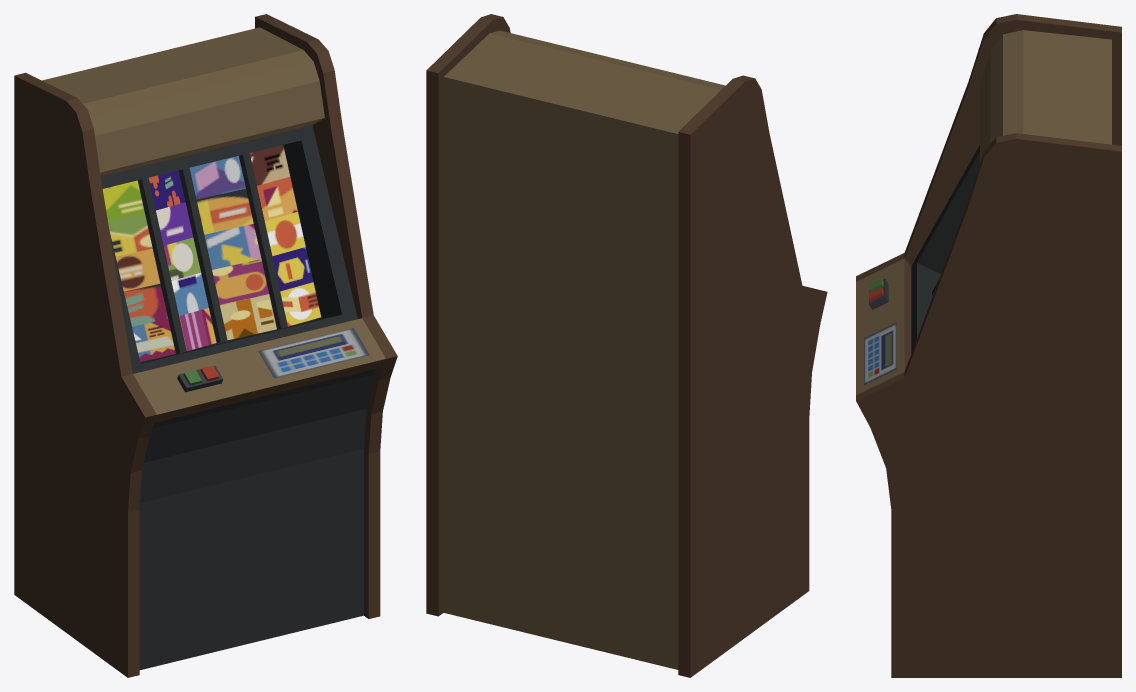
The model's file is SM_Prop_JukeBox_01.002.obj.
3 views of the same model, side by side, from view 1: azimuth 30°, elevation 25°; view 2: azimuth 150°, elevation 25°; view 3: azimuth 270°, elevation 25° (orthographic). The views are drawn at different scales.
Parts seen in each view (by area): view 1: SM_Prop_JukeBox_01.002_0; view 2: SM_Prop_JukeBox_01.002_0; view 3: SM_Prop_JukeBox_01.002_0.
Boxes of the visible parts, x1,y1,x2,y2 form: SM_Prop_JukeBox_01.002_0: (14,14,397,677); SM_Prop_JukeBox_01.002_0: (426,14,827,677); SM_Prop_JukeBox_01.002_0: (856,14,1121,677).
Bounding box in the file's own units: 0.8974 × 1.81 × 0.8077.
Materials: 1 (1 with a texture image).
